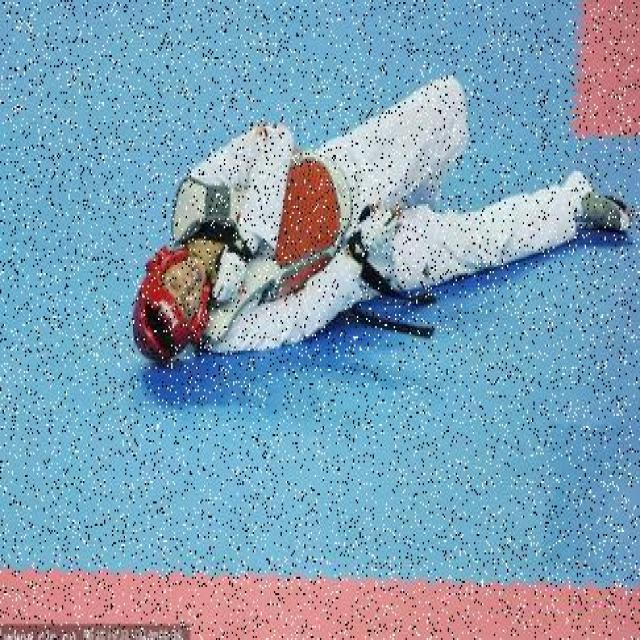fall: (136, 67, 612, 371)
